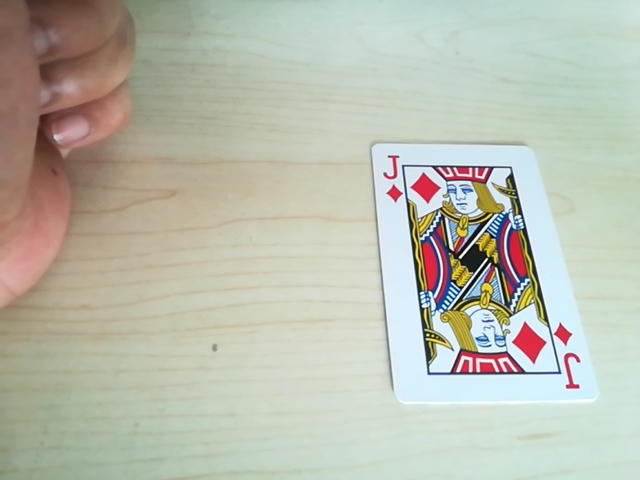fk j: (381, 150, 514, 206), (553, 328, 583, 395)
